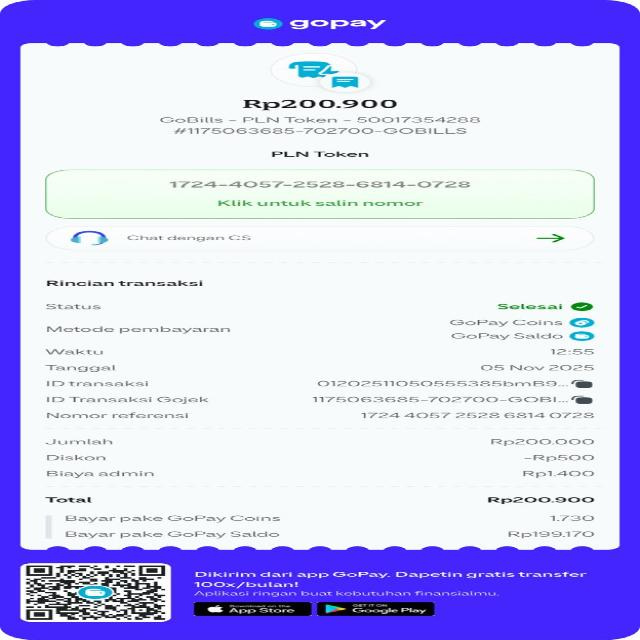date: (472, 361, 600, 375)
store: (263, 149, 373, 162)
total: (38, 494, 602, 505)
